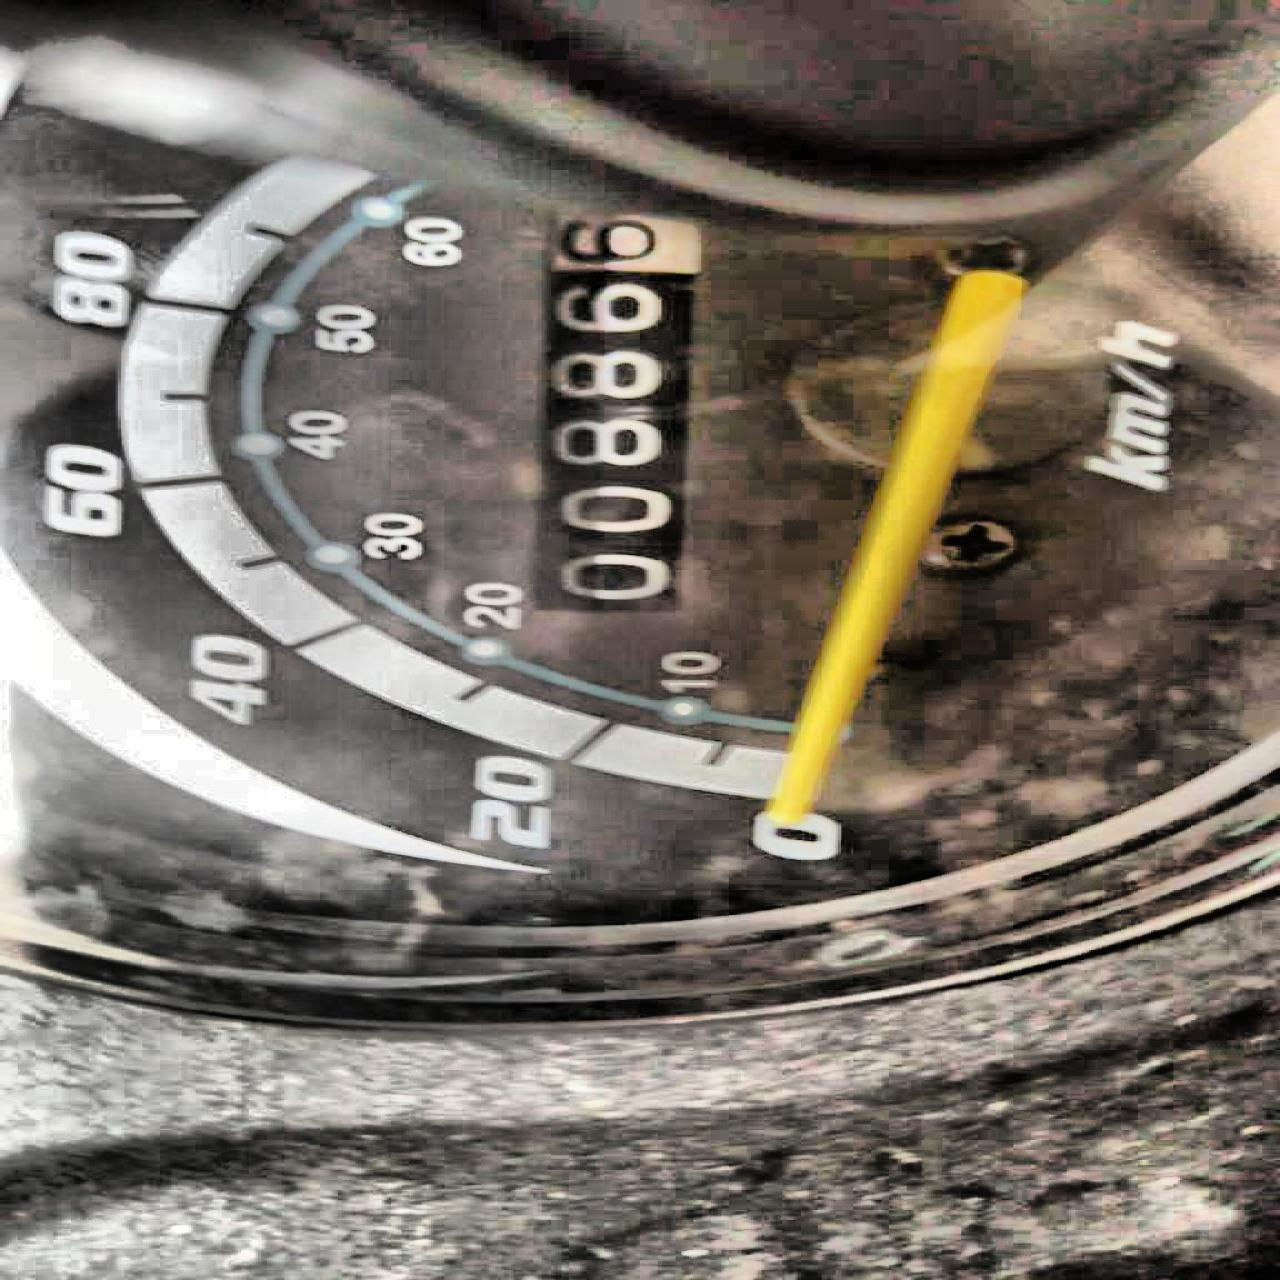0: (543, 550, 685, 604), (543, 483, 678, 538)
6: (540, 213, 680, 265), (540, 285, 680, 335)
8: (539, 348, 673, 400), (544, 415, 669, 468)
odometer: (511, 209, 713, 613)
